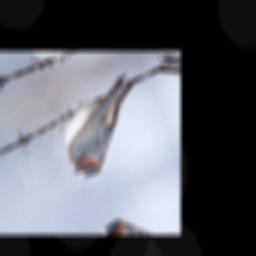Swallow: (46, 66, 164, 184)
